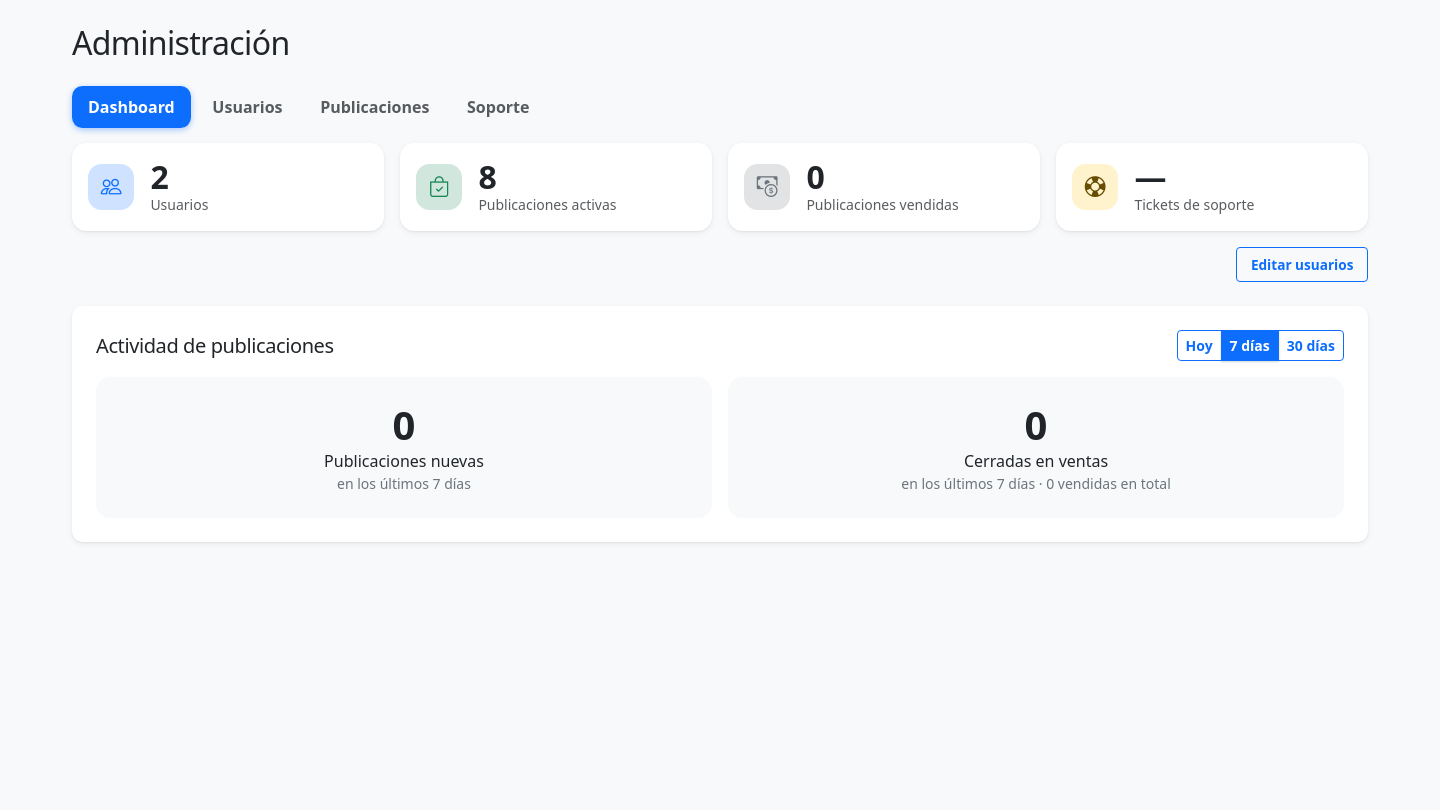
AdminPage (modo simulado) › deshabilitar un usuario pide confirmación, lo marca como Deshabilitada y retira sus publicaciones; Habilitar lo revierte
The width and height of the screenshot is (1440, 810).
Later steps or results of the test are not shown.
Click the tab "Usuarios" at (247, 107), box [196, 86, 298, 128]
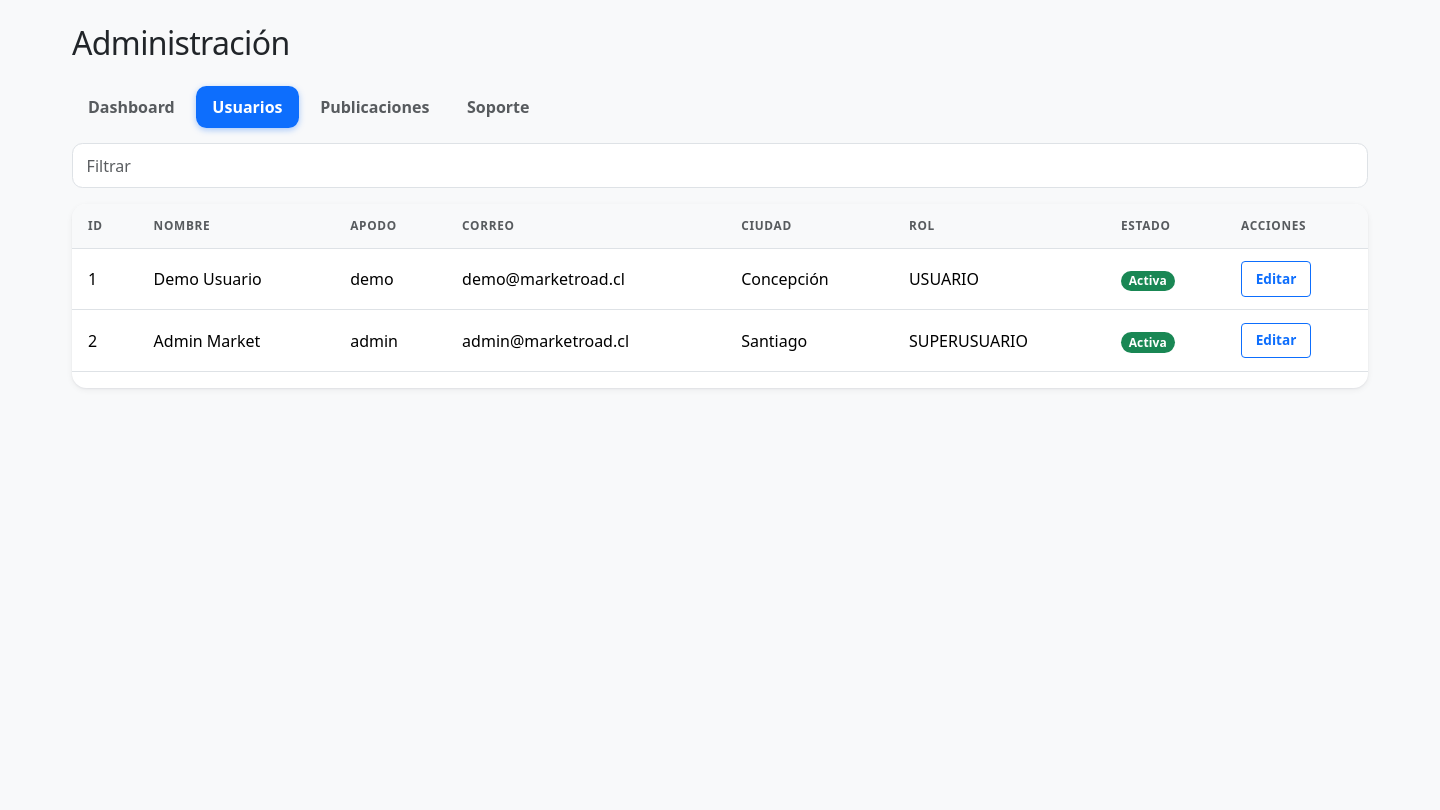
Click the button with aria-label "Editar a demo" at (1276, 279), box [1241, 261, 1311, 296]
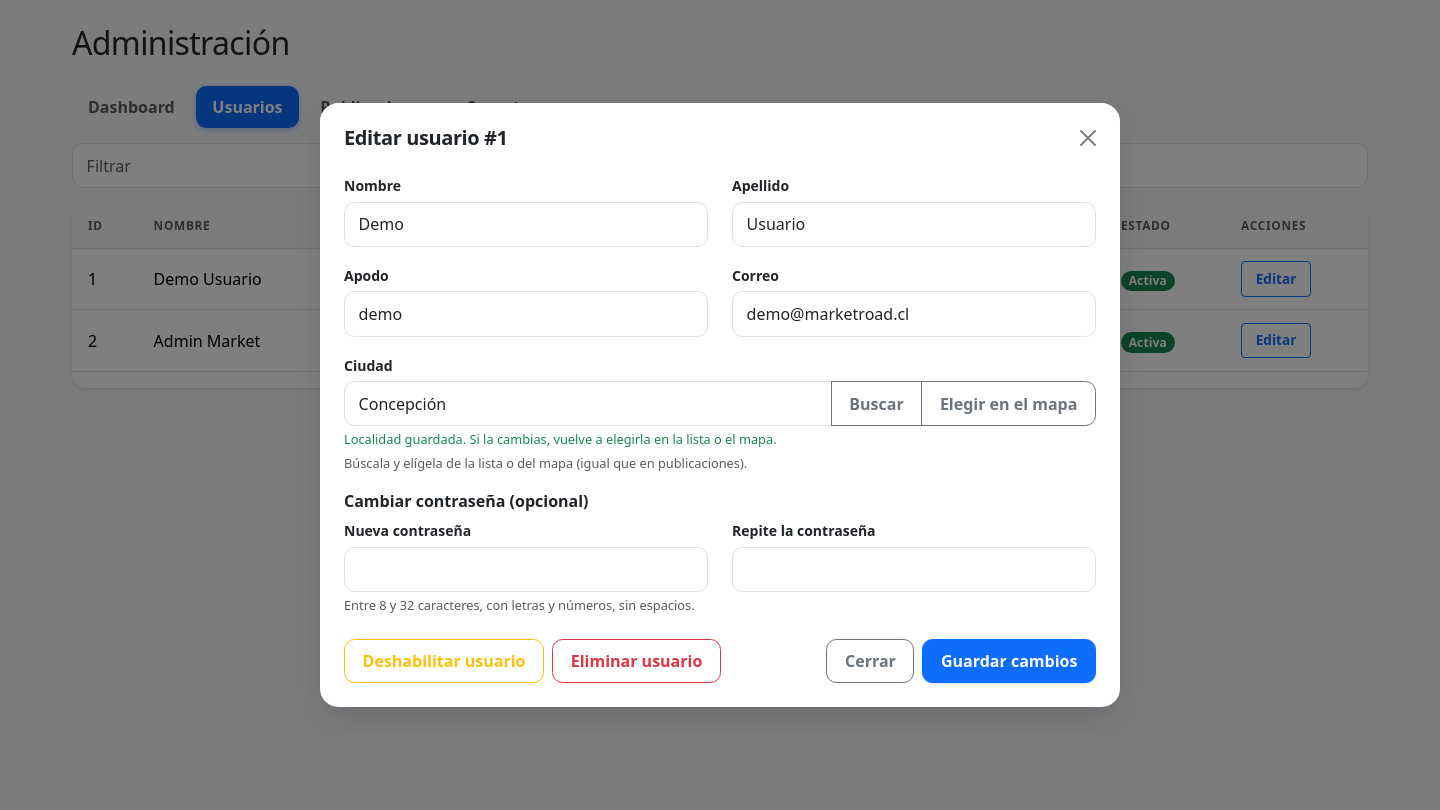
Click the button "Deshabilitar usuario" at (444, 661), box [344, 639, 544, 683]
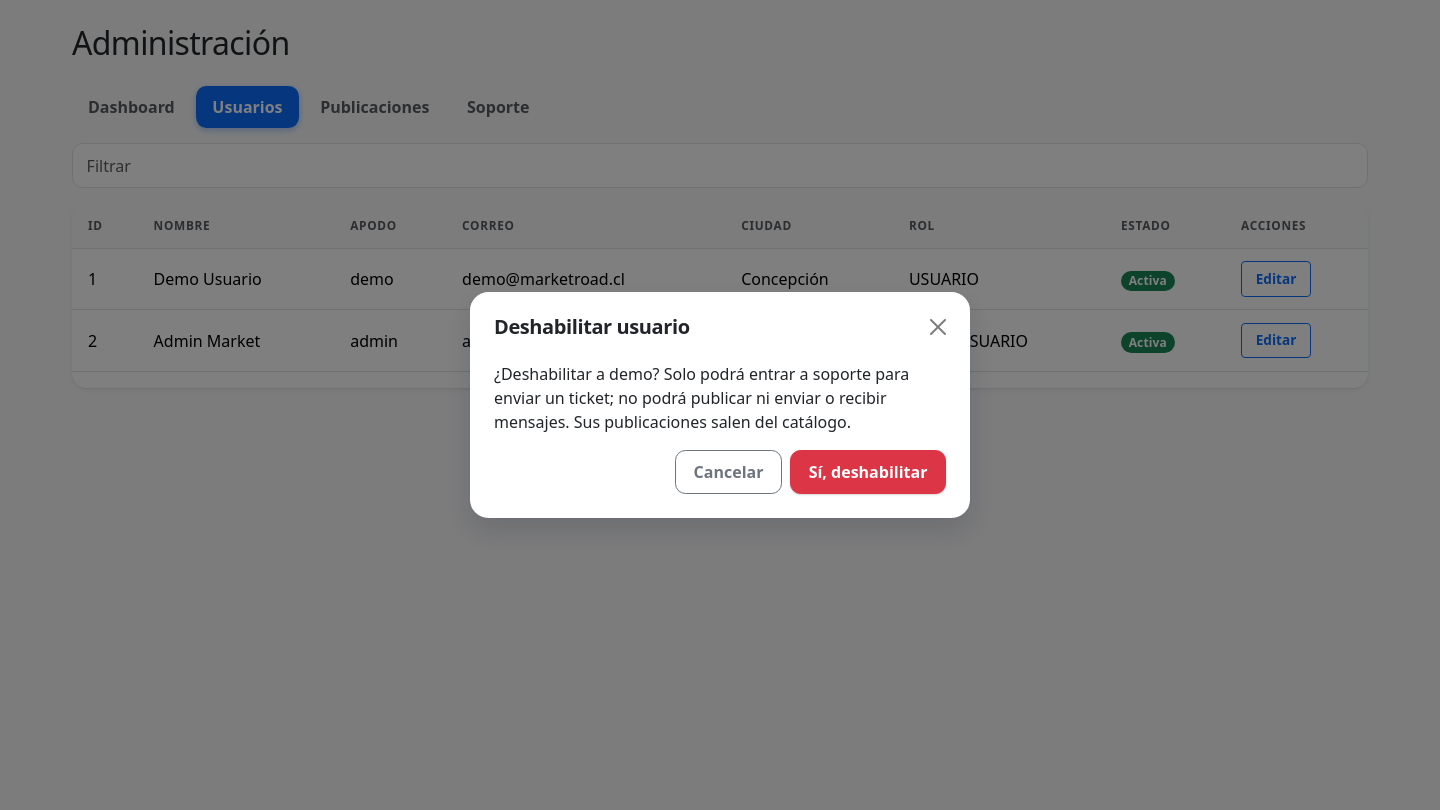
Click the button "Sí, deshabilitar" at (868, 472), box [790, 450, 946, 494]
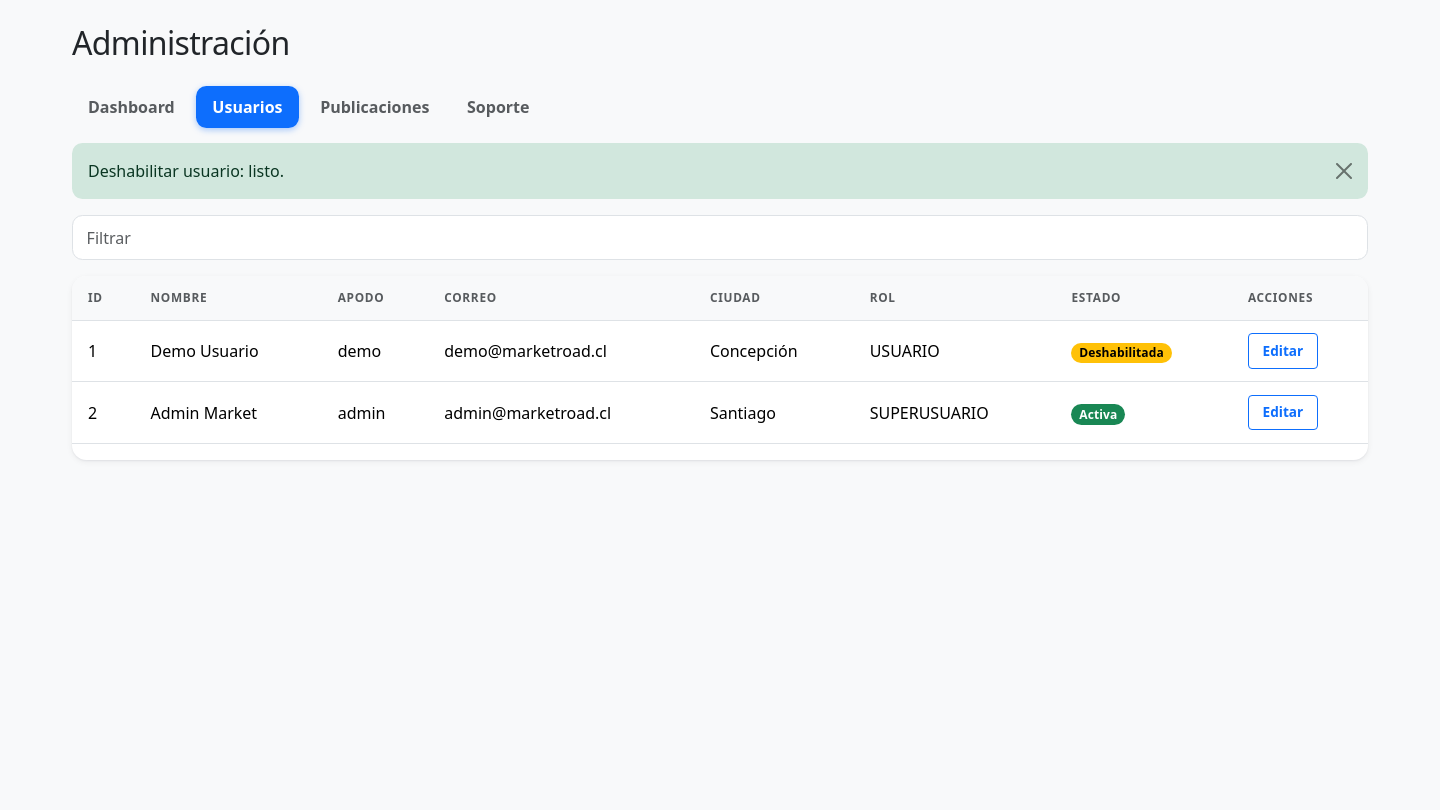
expect the text "Deshabilitada" is shown: met, box [1072, 343, 1172, 363]
